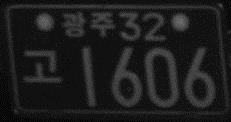0: (145, 46, 179, 109)
1: (78, 44, 99, 109)
2: (141, 12, 167, 42)
3: (118, 11, 140, 41)
6: (109, 44, 143, 109), (183, 44, 215, 109)
고: (20, 48, 62, 84)
광주_O: (61, 9, 115, 39)
